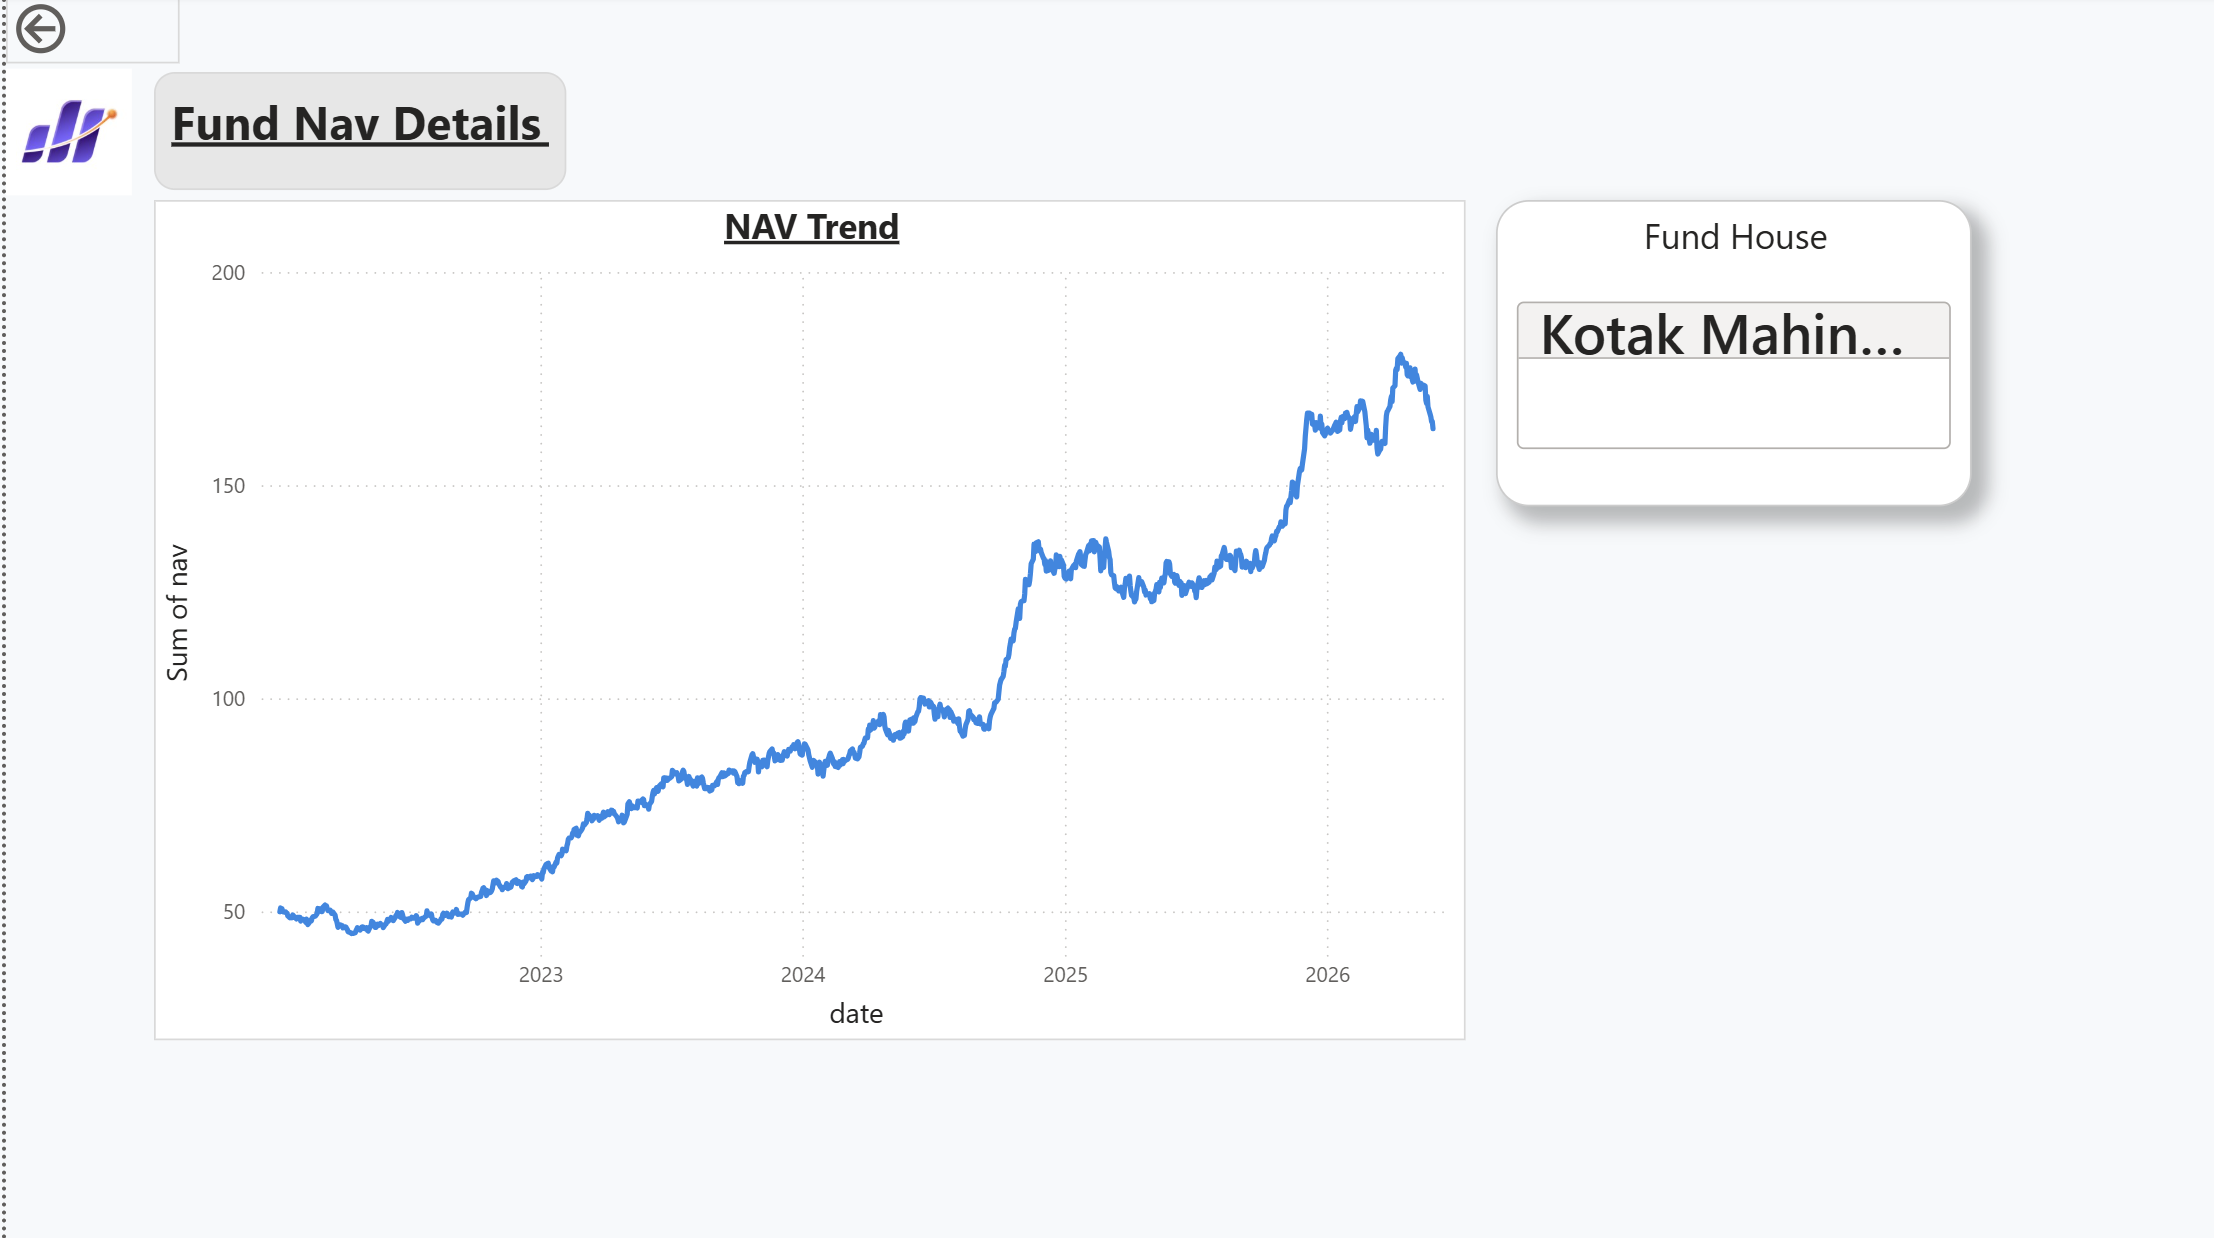

Layout of this report page (visuals, bound fields, positions):
{"tool":"powerbi","page":{"name":"Fund Nav Details","canvas":[1280,720],"ordinal":4},"visuals":[{"type":"actionButton","box":[0,0,100,40],"z":0},{"type":"lineChart","title":"NAV Trend","fields":{"Y":["Sum(02_nav_history_cleaned.nav)"],"Category":["02_nav_history_cleaned.date"]},"box":[85.2,118.7,755.7,483.8],"z":1000},{"type":"cardVisual","title":"Fund House ","fields":{"Rows":["07_scheme_performance_cleaned.fund_house"]},"box":[858.2,118.7,274.2,176.3],"z":2000},{"type":"textbox","box":[85.2,44.9,237.3,68],"z":3000},{"type":"image","box":[0,41.5,72.6,76],"z":4000}]}

Visuals, with their boxes in screenshot pixels (x1, y1, x2, y2), scaled from the page's 1280x720 canvas onto the 2214x1238 screenshot:
actionButton: 0:0:173:69
"NAV Trend" lineChart: 147:204:1454:1036
"Fund House " cardVisual: 1484:204:1959:507
textbox: 147:77:558:194
image: 0:71:126:202
